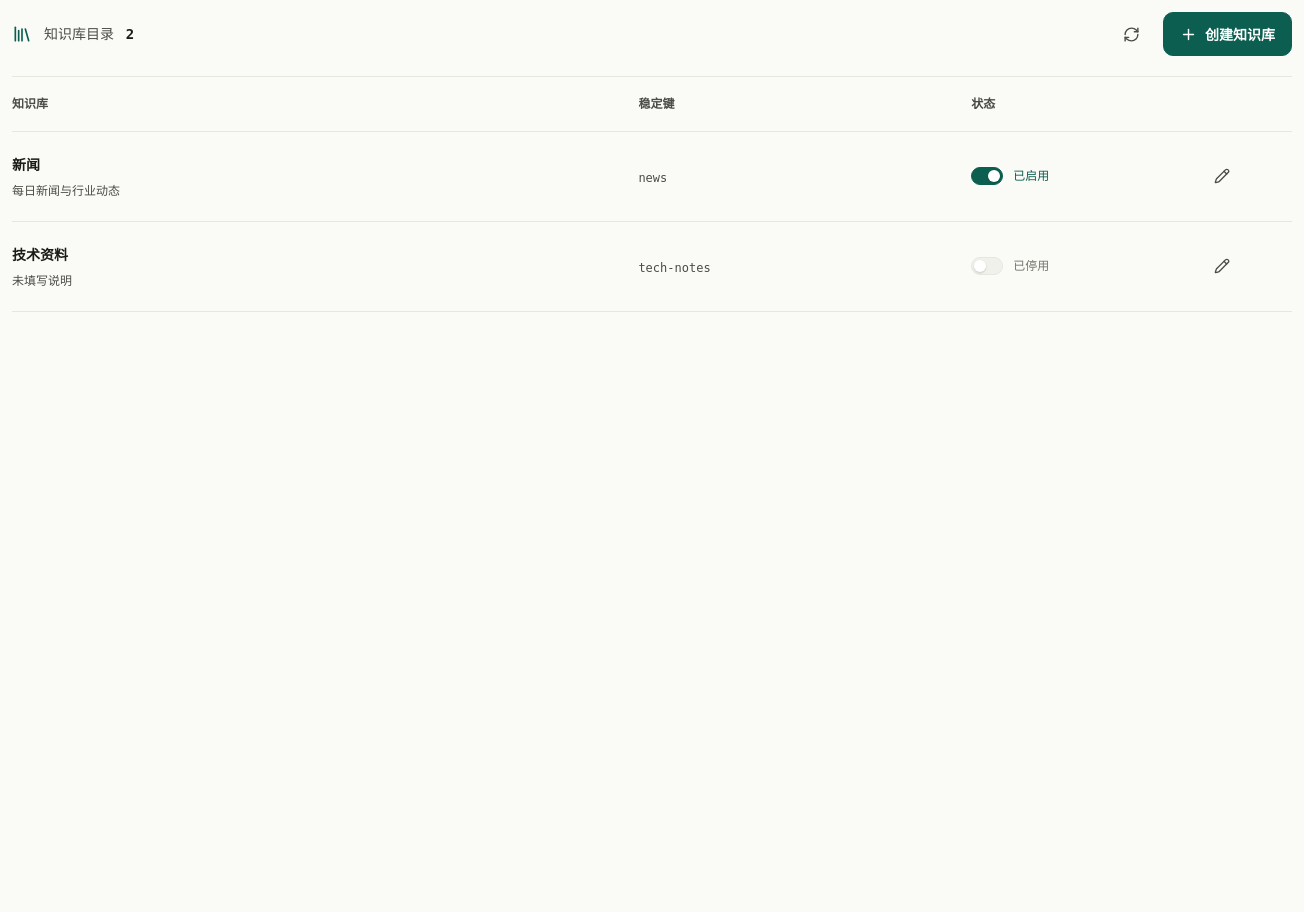
Scenario: KnowledgeBasesPage › edits name and clears description while preserving the stable key and status
Click the button named "编辑知识库 新闻" at (1222, 176), box top-left (1202, 156), bottom-right (1242, 196)
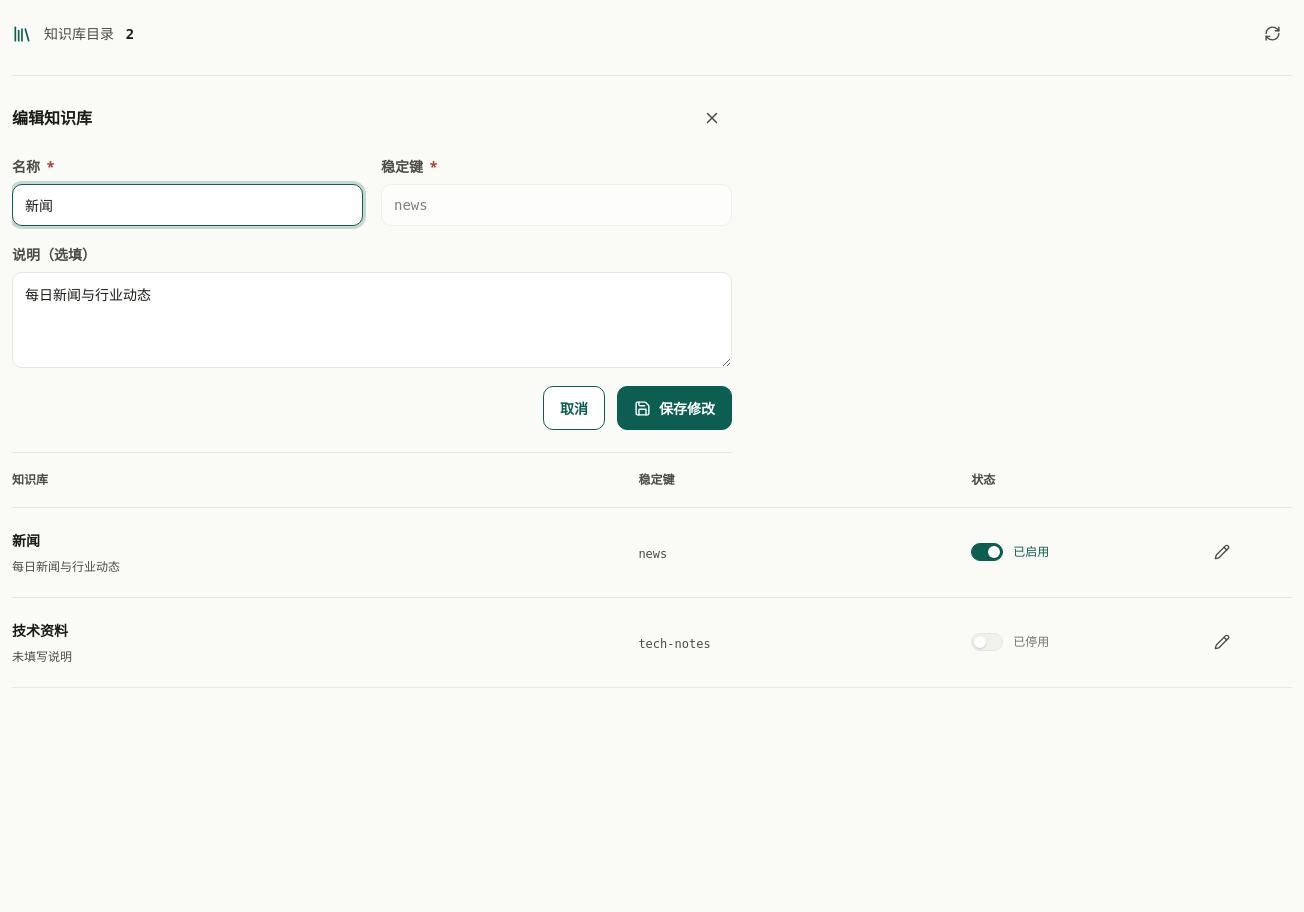
Check: the field named "knowledge-base-key" is disabled, box top-left (381, 184), bottom-right (732, 226)
Check: the text box labelled "说明（选填）" holds "每日新闻与行业动态", box top-left (12, 272), bottom-right (732, 368)
Replace the text in the field named "knowledge-base-name" with "新闻档案" at (188, 205), box top-left (12, 184), bottom-right (363, 226)
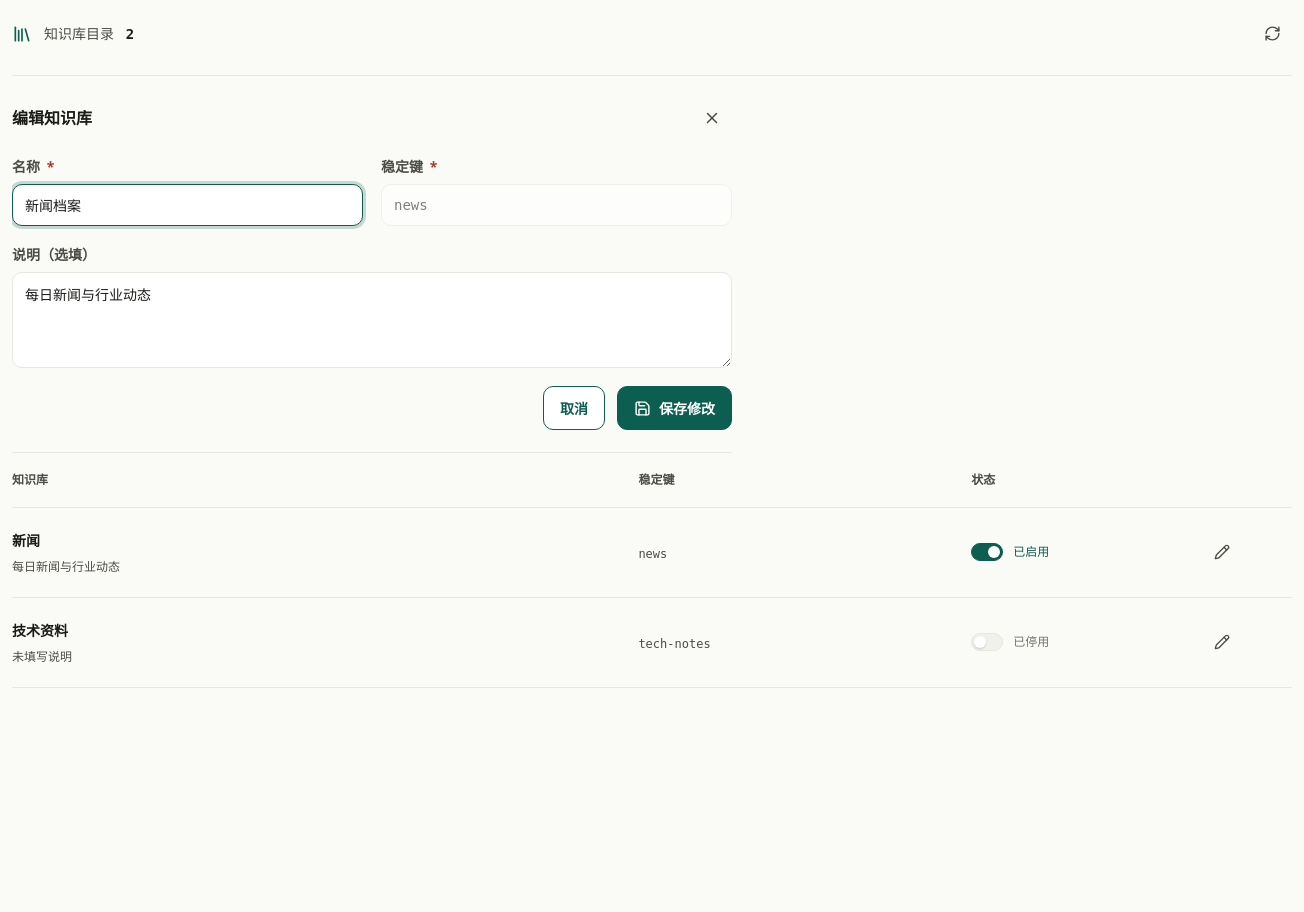
Clear the text box labelled "说明（选填）" at (372, 320), box top-left (12, 272), bottom-right (732, 368)
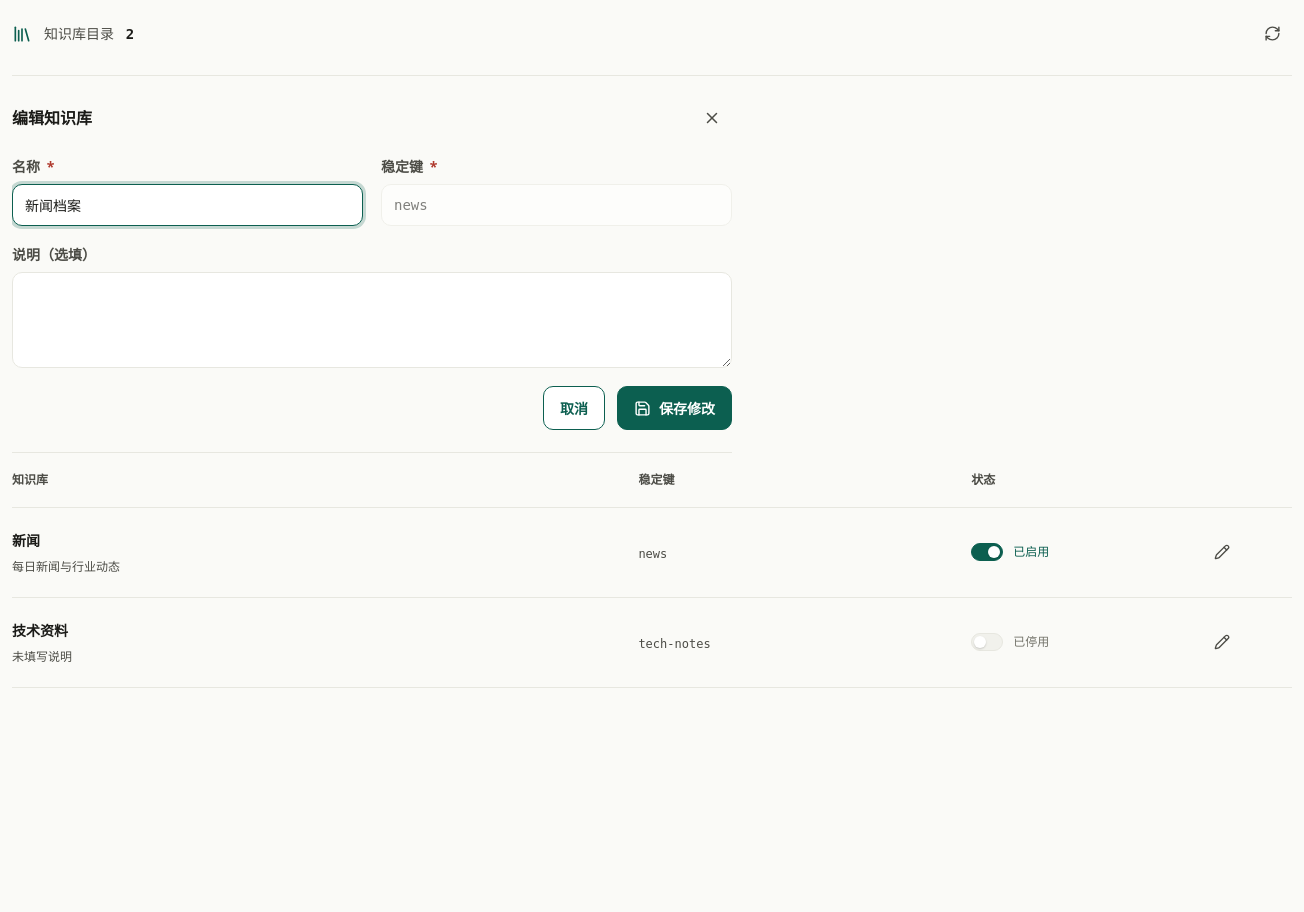
Submit the form, box top-left (12, 76), bottom-right (732, 453)
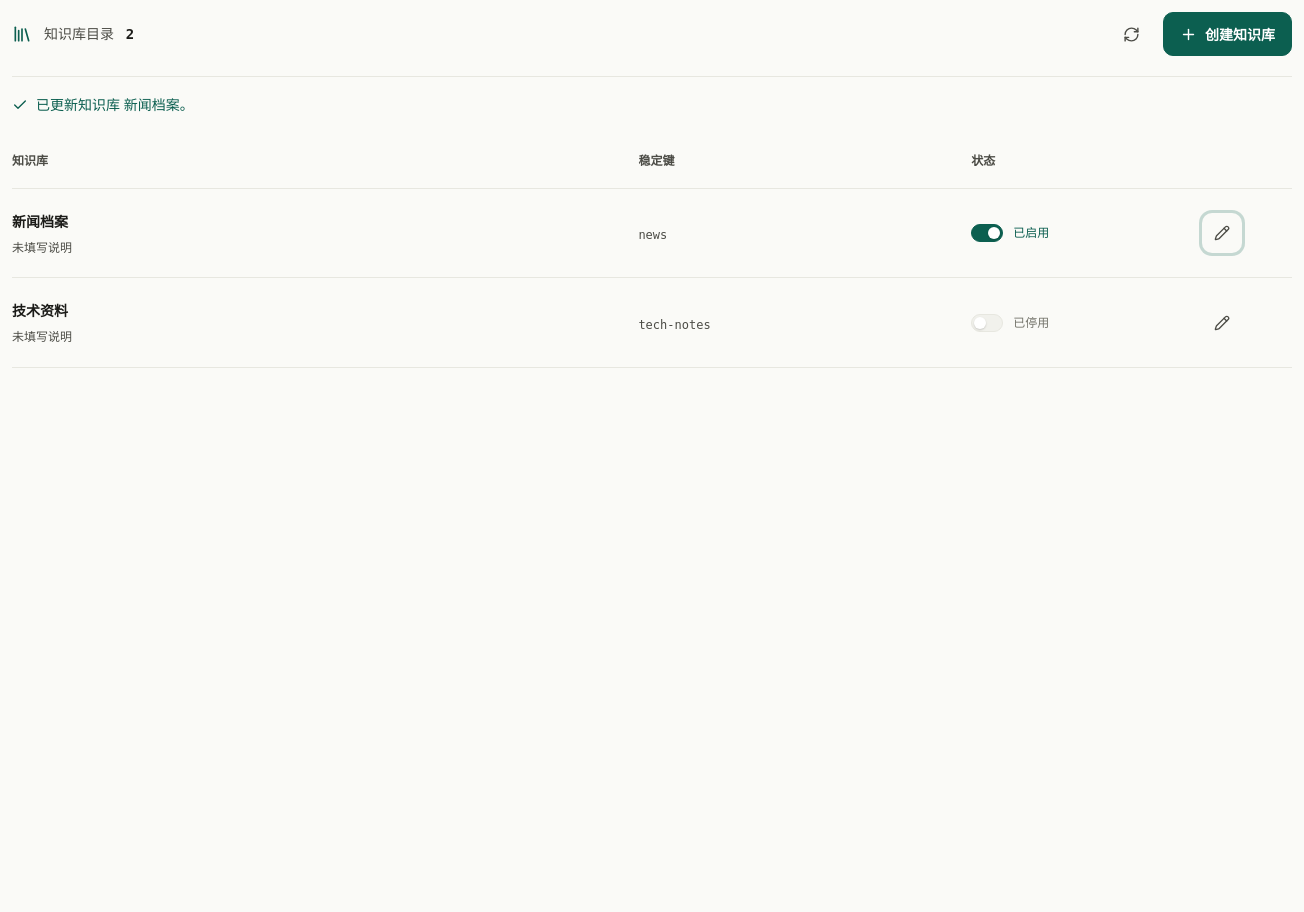
Check: the text "新闻档案" is shown, box top-left (36, 95), bottom-right (194, 114)
